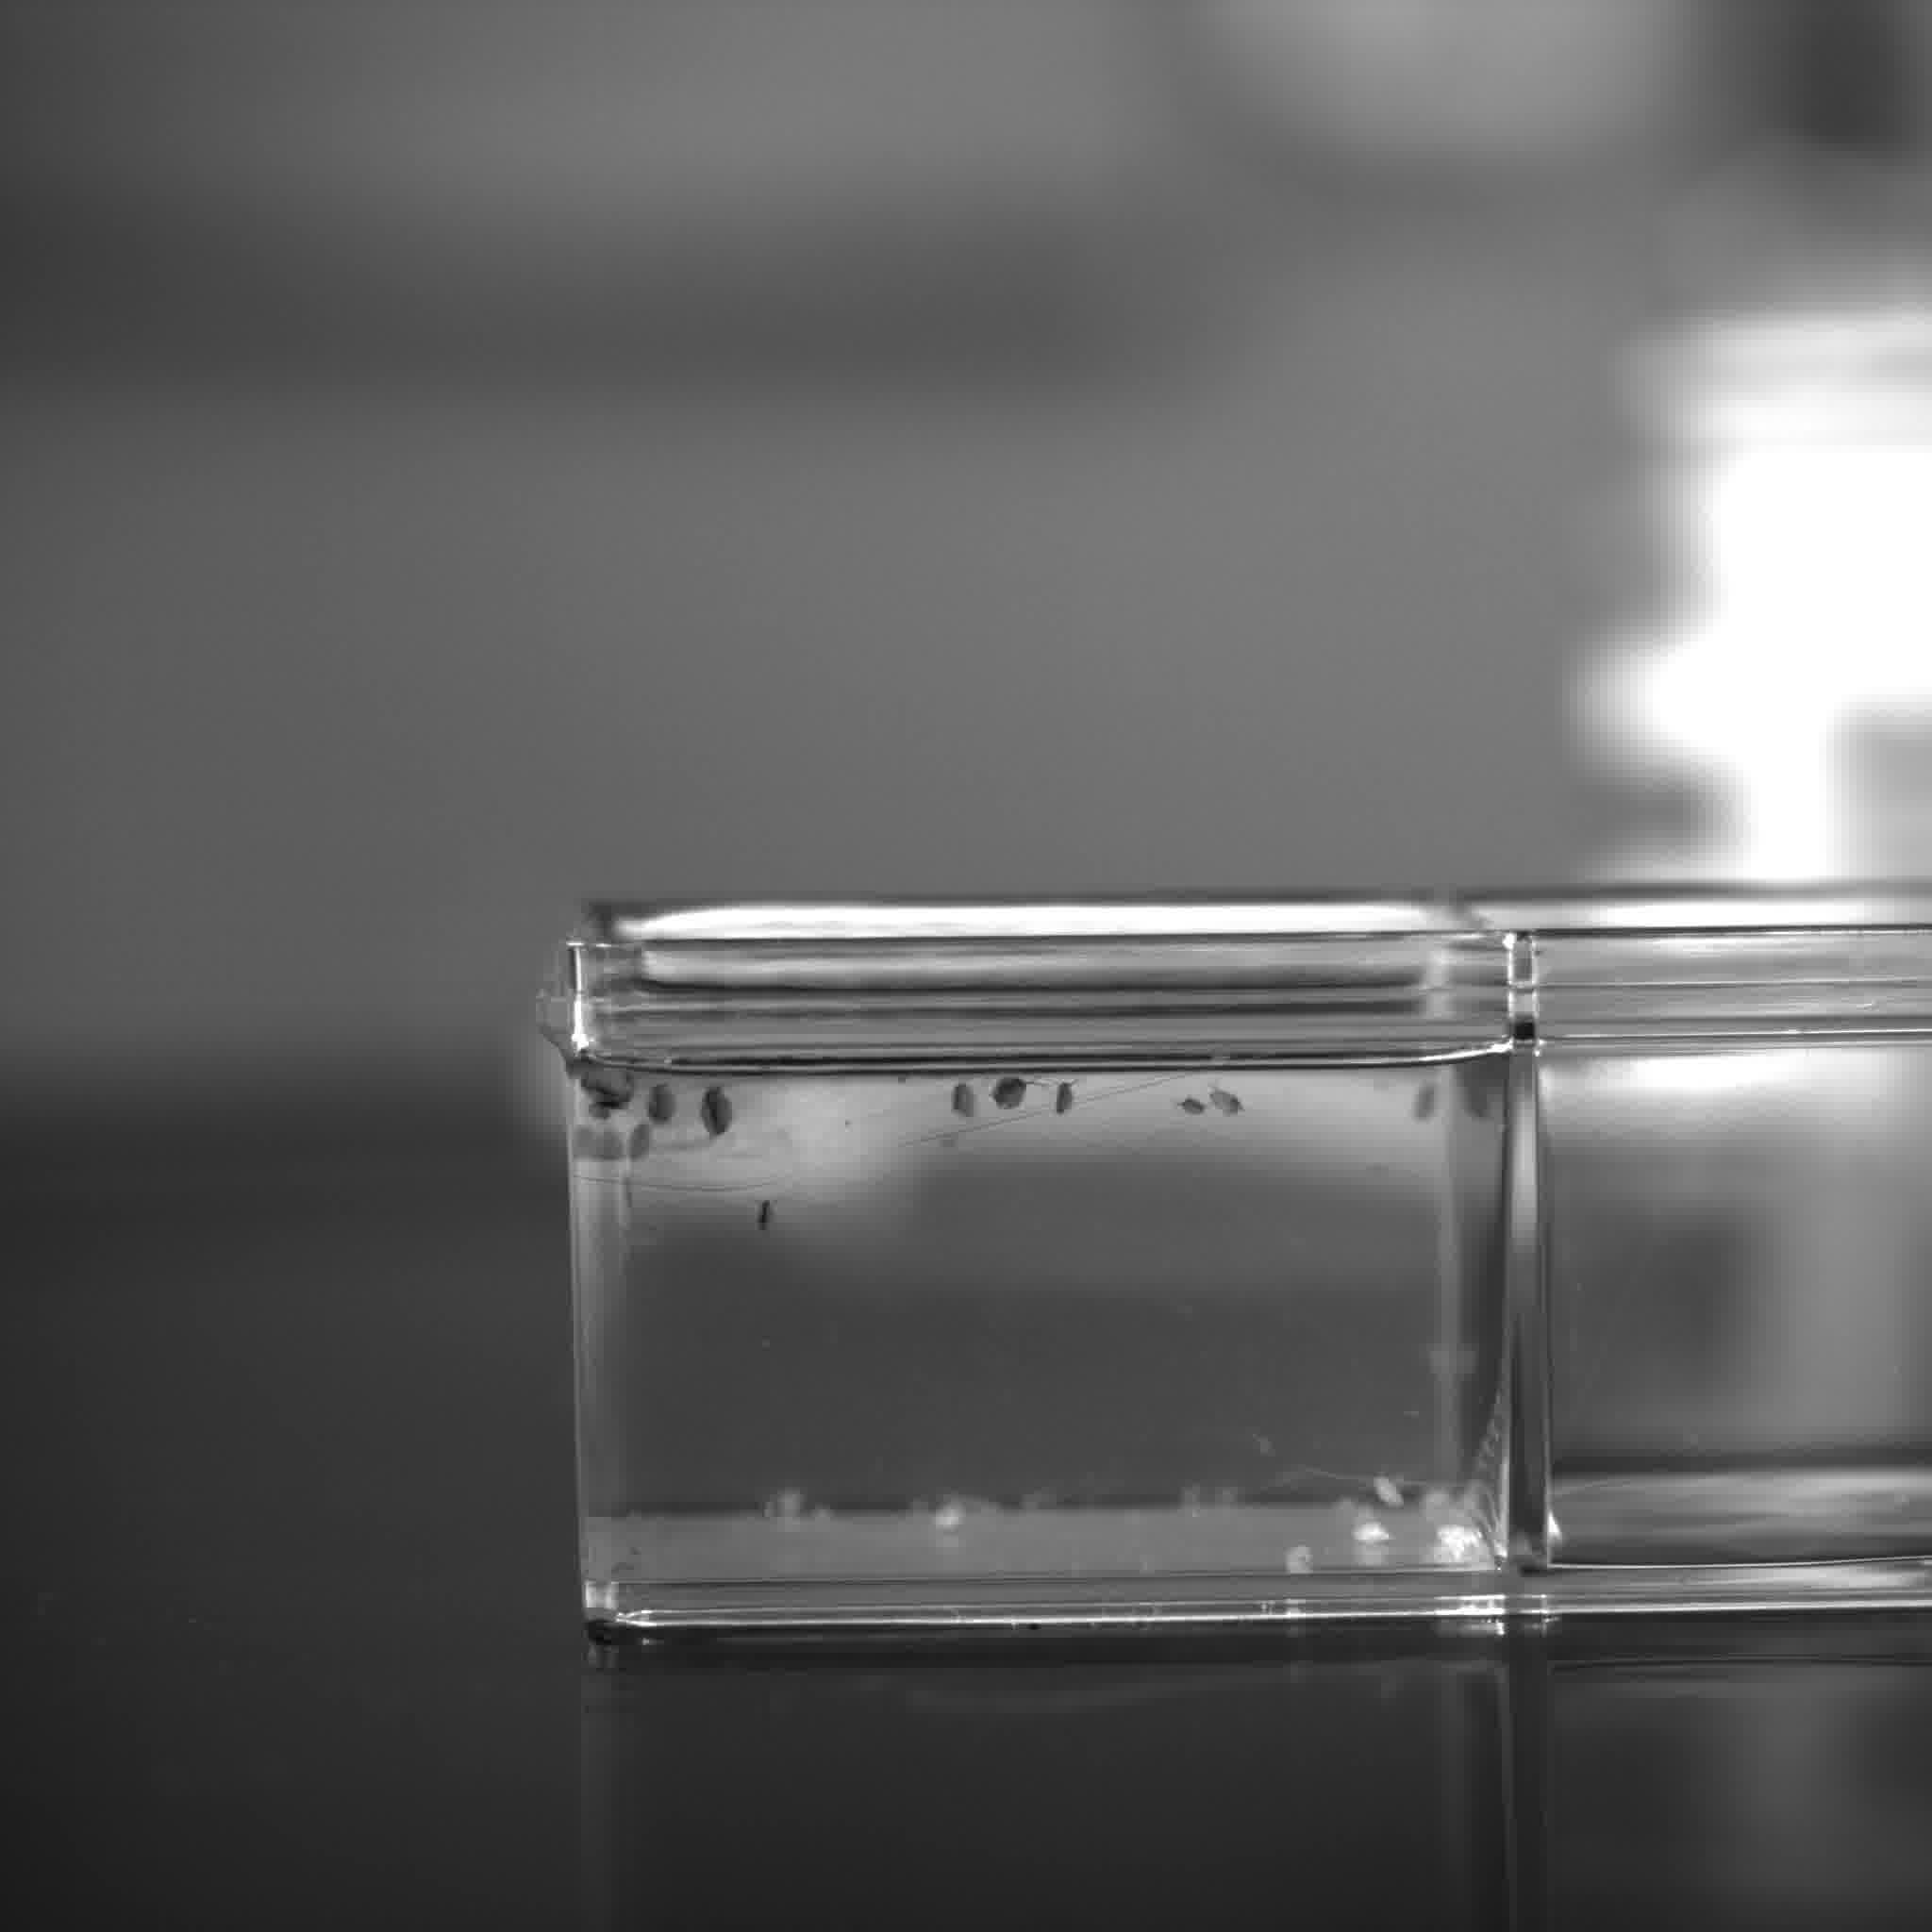Daphnia: (690, 1083, 736, 1141), (984, 1076, 1053, 1115), (1042, 1070, 1090, 1118), (1203, 1079, 1249, 1120), (584, 1070, 633, 1104), (646, 1083, 676, 1127), (632, 1123, 658, 1173), (750, 1198, 778, 1237), (952, 1083, 978, 1122), (1417, 1076, 1438, 1115), (1178, 1099, 1210, 1122)
